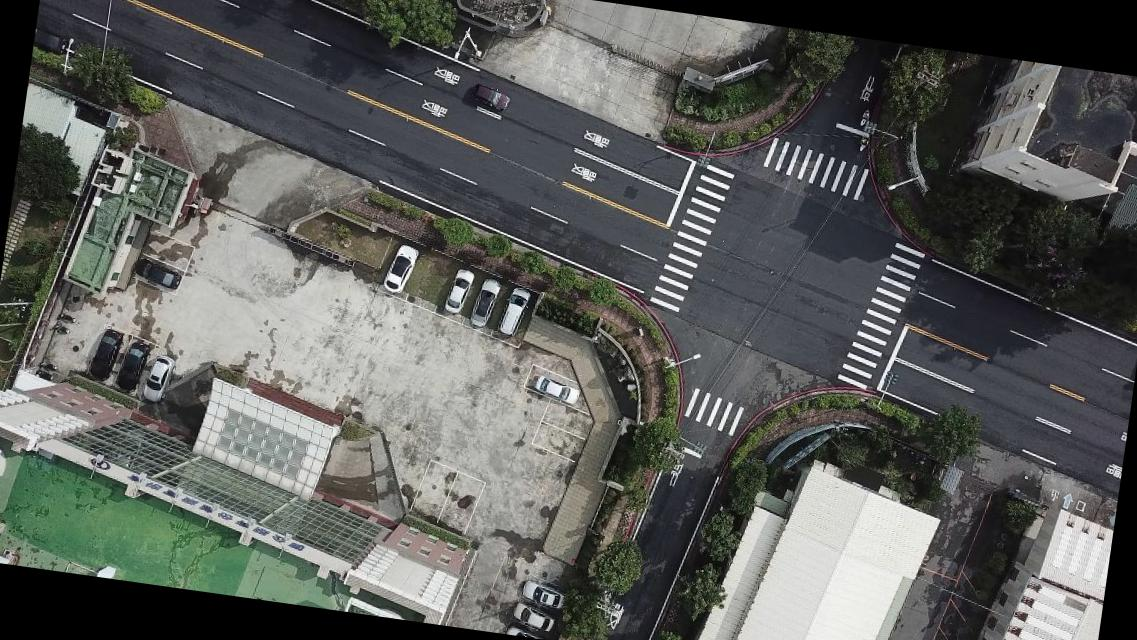vehicle: (85, 327, 126, 388), (381, 242, 422, 298), (113, 338, 149, 398), (529, 372, 585, 409), (498, 287, 532, 339), (444, 266, 478, 318), (469, 277, 502, 330), (142, 353, 175, 404), (508, 601, 558, 634), (518, 580, 569, 611), (131, 260, 182, 289), (470, 82, 514, 115), (33, 28, 70, 58), (503, 622, 548, 639)
